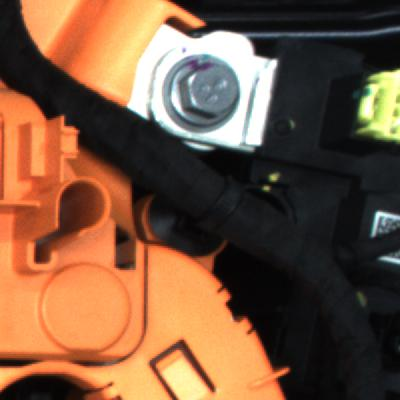nut_b: (158, 53, 261, 142)
